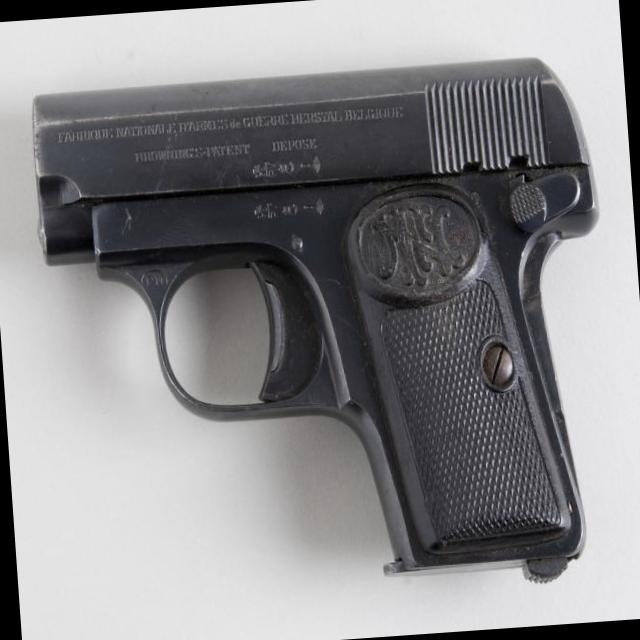Gun: (33, 58, 597, 574)
